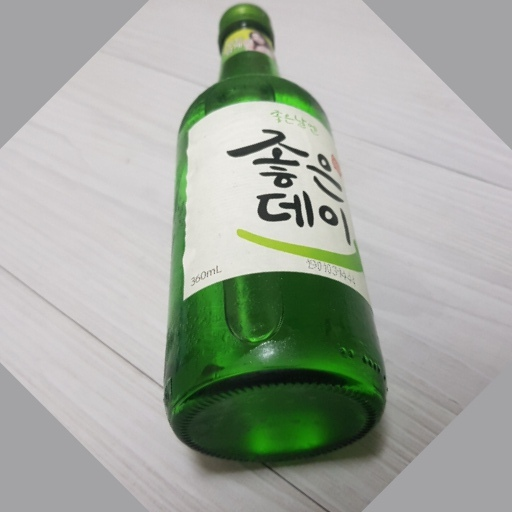Glass_0: (164, 1, 386, 470)
